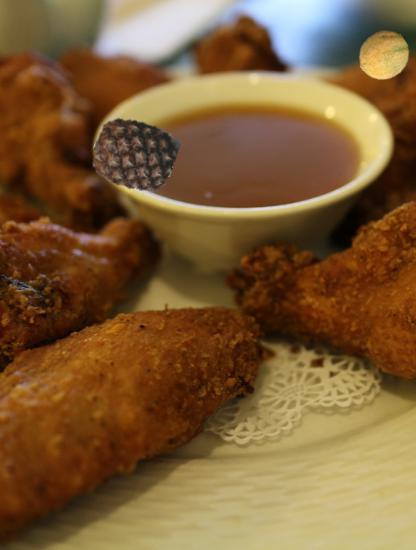Cantaloupe: (358, 30, 410, 82)
Pineapple: (93, 114, 175, 196)
